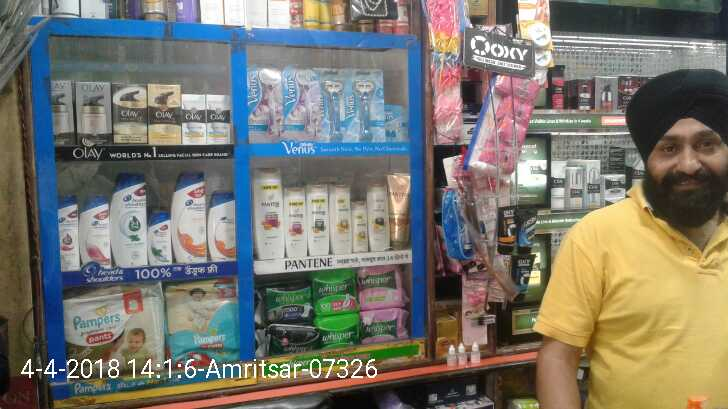venus: (284, 65, 318, 141), (249, 67, 281, 142), (353, 69, 385, 141), (321, 67, 350, 141), (388, 104, 406, 139)
